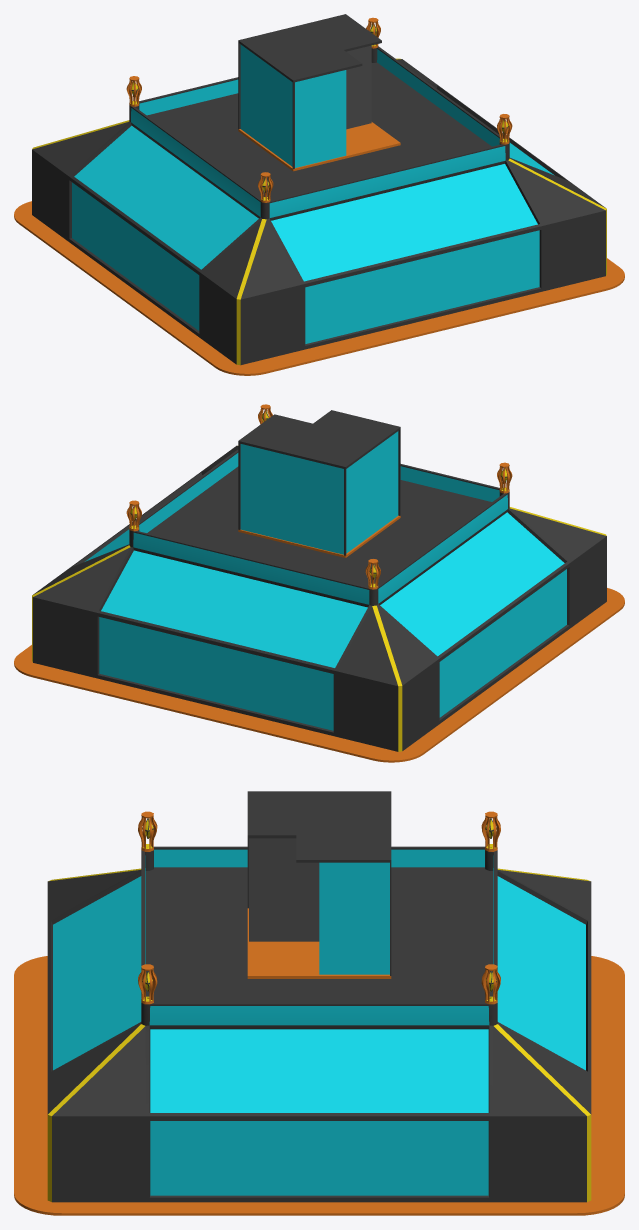
The model's file is SM_MK14_Roof_001.fbx.
The picture shows the model from 3 angles, top to bottom: view 1: azimuth 30°, elevation 25°; view 2: azimuth 150°, elevation 25°; view 3: azimuth 270°, elevation 25°; orthographic projection. The views are drawn at different scales.
Visible parts, largest first — view 1: SM_MK14_Roof_001; view 2: SM_MK14_Roof_001; view 3: SM_MK14_Roof_001.
Part boxes in pixels (box(x1,y1,x2,y2)): SM_MK14_Roof_001: box(14, 14, 624, 375); SM_MK14_Roof_001: box(14, 404, 624, 762); SM_MK14_Roof_001: box(14, 791, 624, 1215).
Bounding box in the file's own units: 2100 × 990 × 2100.
